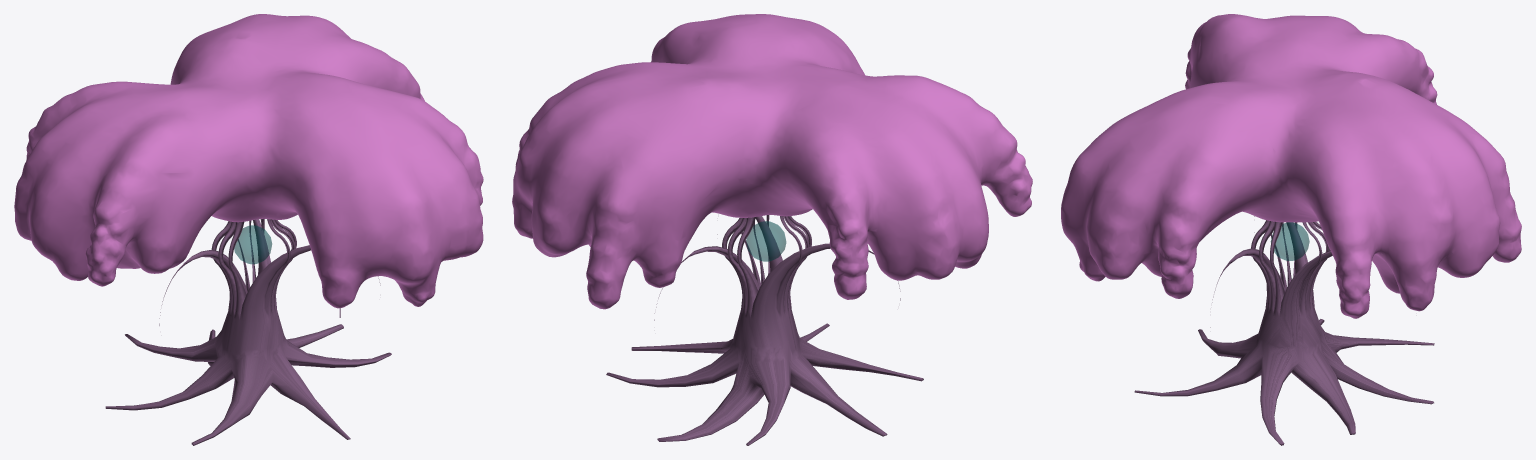
File: MagicalTreeNormal.fbx
The picture shows the model from 3 angles, left to right: view 1: azimuth 30°, elevation 25°; view 2: azimuth 150°, elevation 25°; view 3: azimuth 270°, elevation 25°; orthographic projection. The views are drawn at different scales.
Parts seen in each view (by area): view 1: Normal_Leaf_M, Tree_2, Magical_Sphere_2; view 2: Normal_Leaf_M, Tree_2, Magical_Sphere_2; view 3: Normal_Leaf_M, Tree_2, Magical_Sphere_2.
Boxes of the visible parts, x1,y1,x2,y2 form: Normal_Leaf_M: (14,14,483,308); Tree_2: (105,218,391,445); Magical_Sphere_2: (234,225,271,264); Normal_Leaf_M: (512,14,1032,309); Tree_2: (606,215,923,445); Magical_Sphere_2: (746,221,786,261); Normal_Leaf_M: (1061,14,1521,318); Tree_2: (1134,216,1434,445); Magical_Sphere_2: (1270,222,1309,260).
Bounding box in the file's own units: 1533 × 1125 × 1452.
3 materials, 1 textured.
